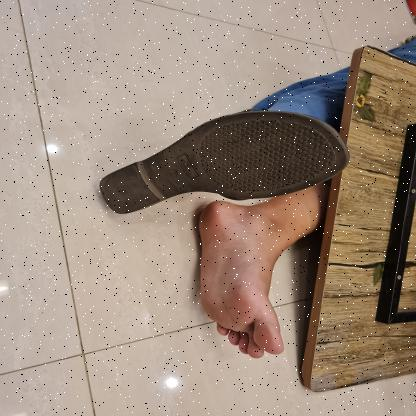leg: (172, 187, 332, 365)
